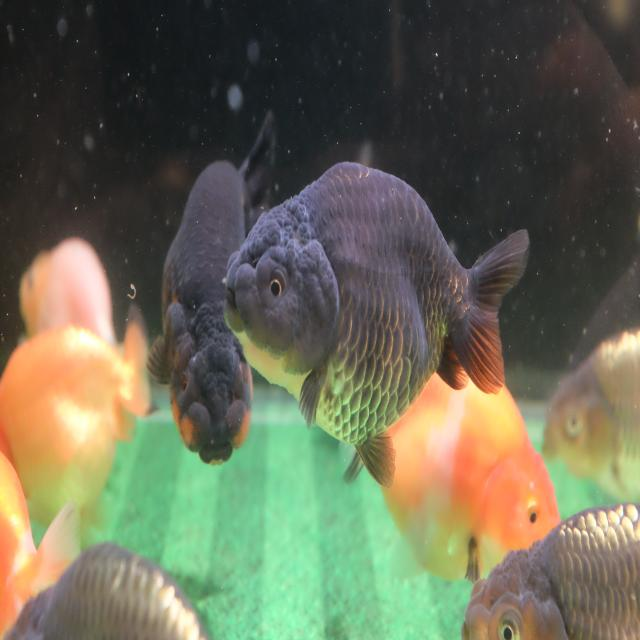Goldfish: (224, 158, 532, 491), (144, 107, 280, 471), (382, 384, 562, 584), (458, 501, 640, 640), (541, 324, 639, 503)
